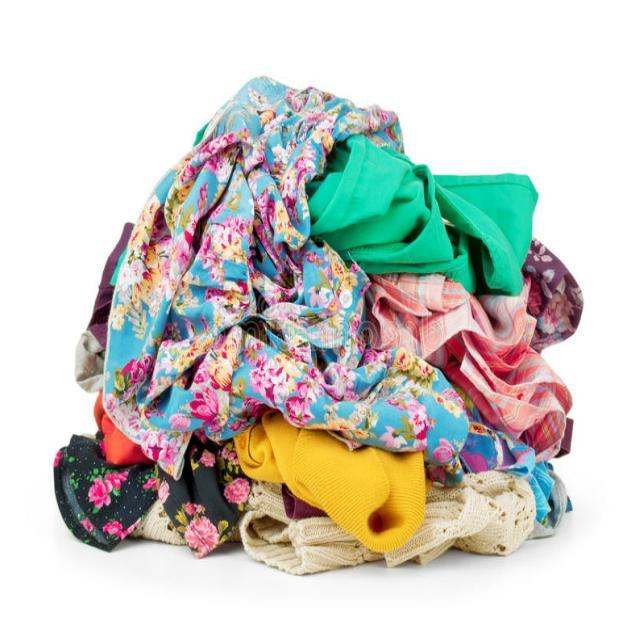clothes: (140, 232, 515, 482)
